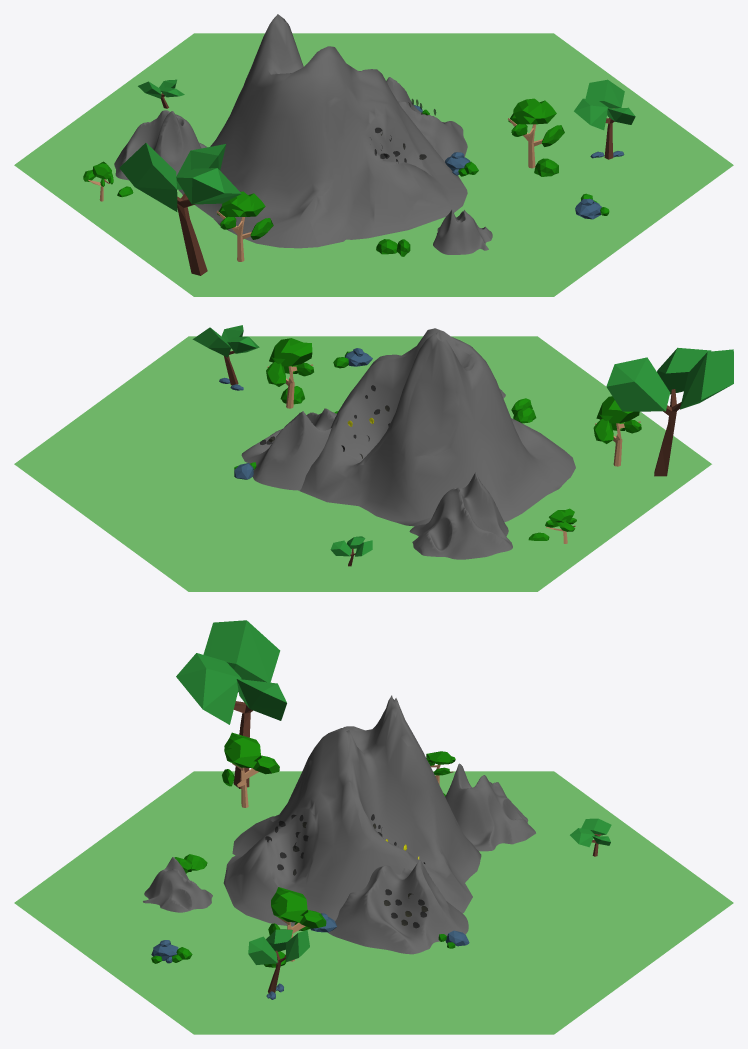
File: Hexagone ressource obsidienne .fbx
3 views of the same model, one above another, from view 1: azimuth 30°, elevation 25°; view 2: azimuth 150°, elevation 25°; view 3: azimuth 270°, elevation 25° (orthographic). The views are drawn at different scales.
Visible parts, largest first — view 1: Cylinder; view 2: Cylinder; view 3: Cylinder.
Part boxes in pixels (x1,y1,x2,y2): Cylinder: (14,14,733,296); Cylinder: (14,325,733,591); Cylinder: (14,620,733,1034).
Bounding box in the file's own units: 1863 × 587 × 2000.
